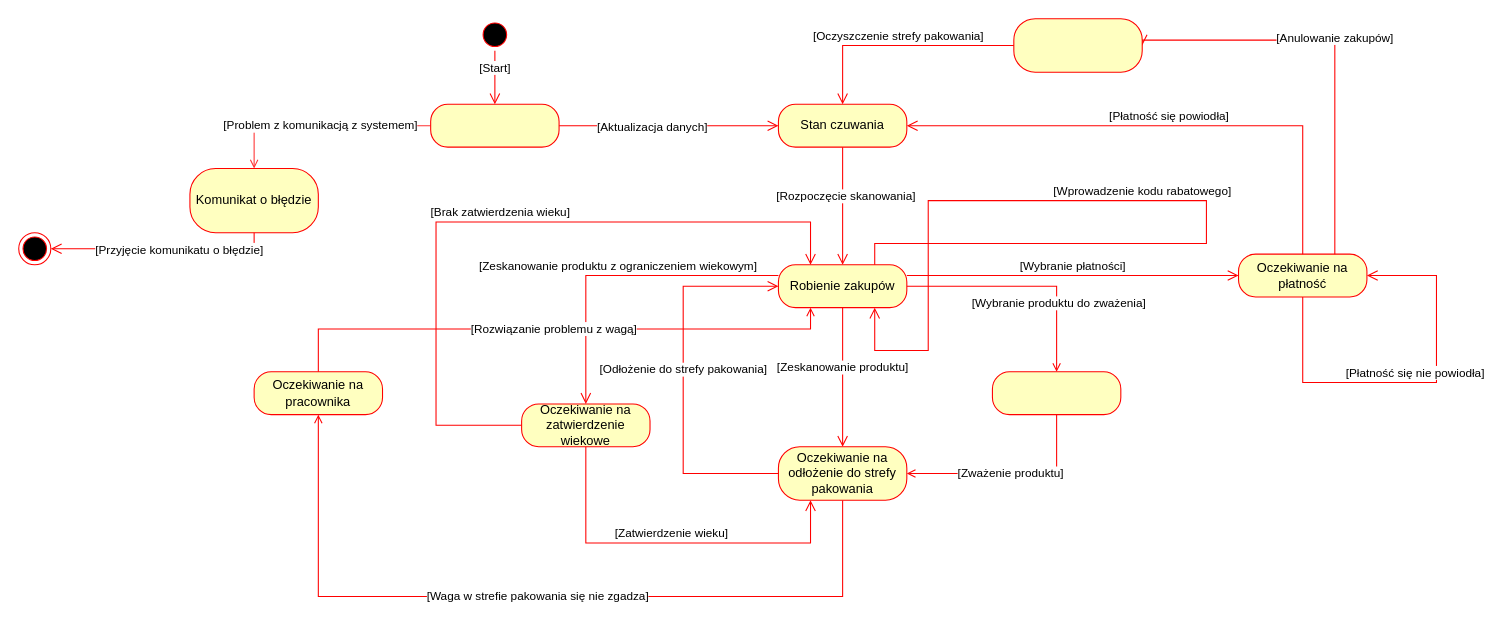
Some shapes in this 1503 by 624 pixel diagram are drawn without their labels. The centre of each missing label's shape, as x and y in pixels:
"Maszyna włączona" goes at point 494,125.
"Oczekiwanie na oczyzczenie strefy pakownia" goes at point 1077,45.
"Oczekiwanie na zważenie" goes at point 1056,393.
